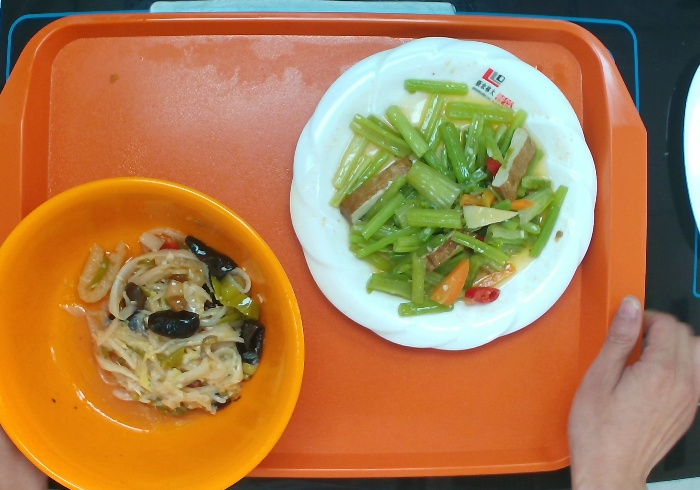ZNLD-Hua_Bian_Wan: (288, 37, 601, 355)
ZNLD-Ju_Se_Tang_Wan: (1, 181, 308, 490)
